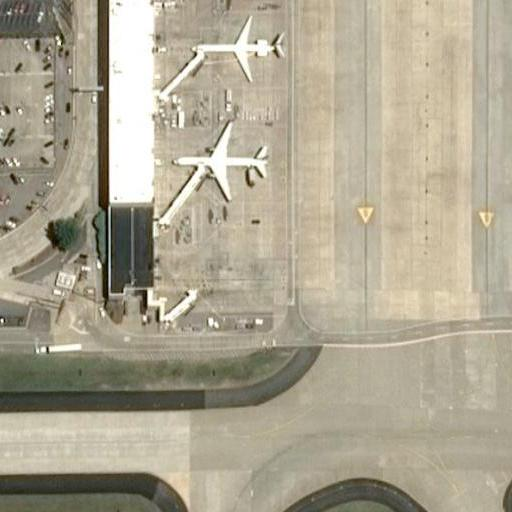Aircraft: (168, 120, 271, 202), (184, 9, 288, 86)
